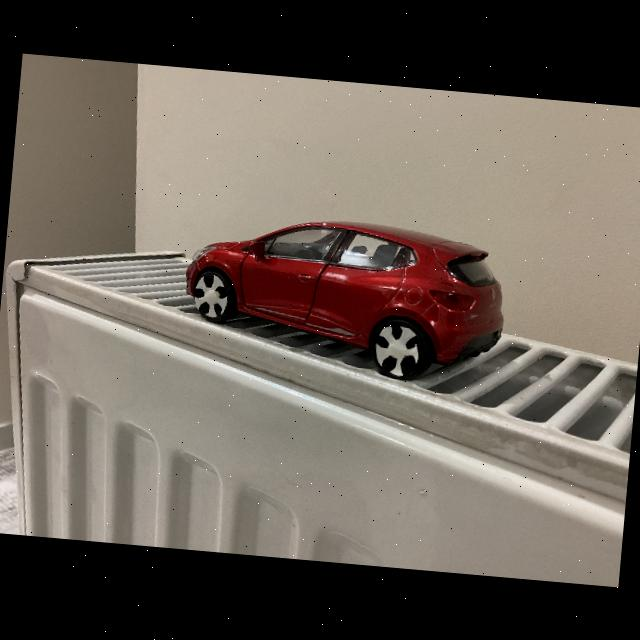Yanlis_Jant: (372, 324, 420, 378), (193, 272, 230, 319)
